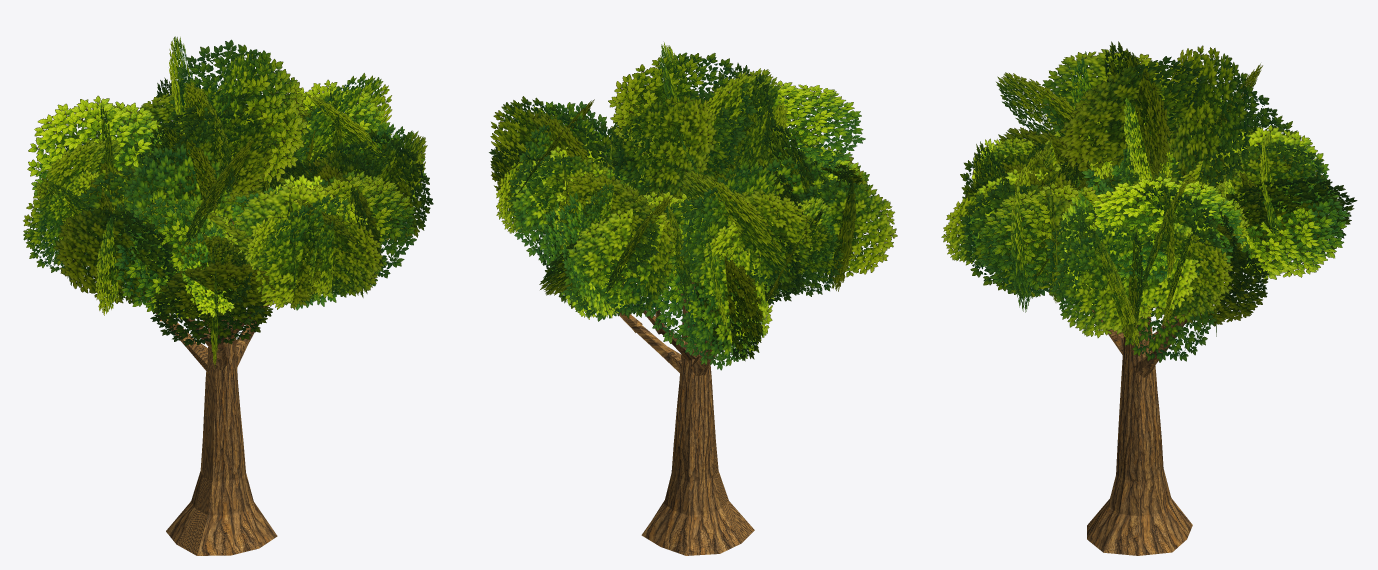
File: StylizedTree.glb
3 renders of one model, left to right at view 1: azimuth 30°, elevation 25°; view 2: azimuth 150°, elevation 25°; view 3: azimuth 270°, elevation 25°, orthographic. The views are drawn at different scales.
Visible parts, largest first — view 1: stylized_tree; view 2: stylized_tree; view 3: stylized_tree.
Boxes of the visible parts, <box> form: stylized_tree: <box>23,36,433,555</box>; stylized_tree: <box>489,42,897,555</box>; stylized_tree: <box>941,41,1357,555</box>.
Size of the model in its own units: 6.13 by 7.48 by 5.67.
Materials: 2 (2 with a texture image).
